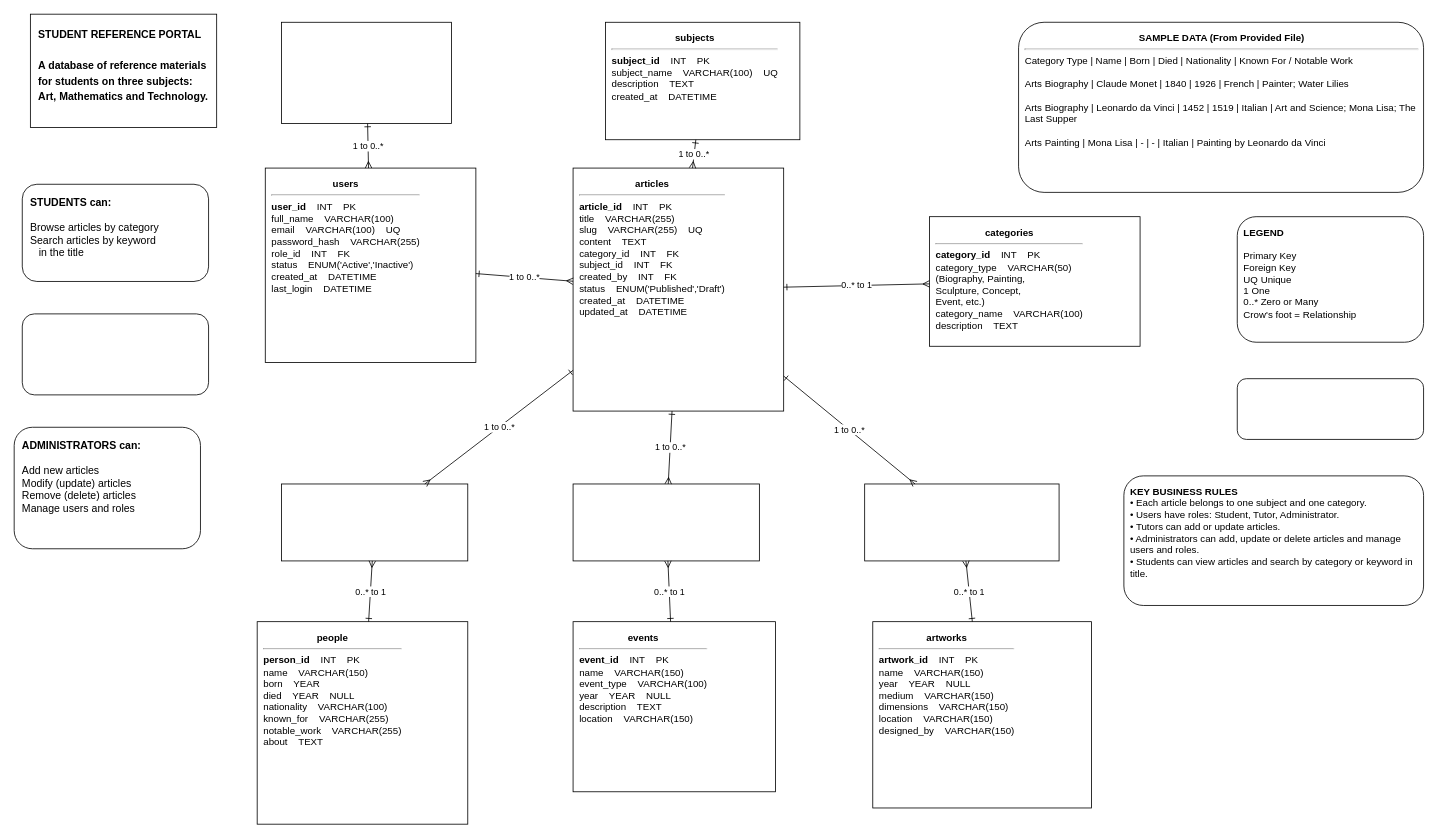
The diagram is 1438 pixels wide and 838 high, and some of its shapes have lost their labels. Here are the shapes that lost their labels. From the top down, the centre of each, then its label:
At (x=366, y=72): "roles role_id INT PK role_name VARCHAR(50) UQ description VARCHAR(255)".
At (x=115, y=354): "TUTORS can: Add new articles Modify (update) articles".
At (x=1330, y=408): "ENUM VALUES • users.status: Active, Inactive • articles.status: Published, Draft".
At (x=374, y=522): "article_people article_id INT FK / PK person_id INT FK / PK".
At (x=665, y=522): "article_events article_id INT FK / PK event_id INT FK / PK".
At (x=961, y=522): "article_artworks article_id INT FK / PK artwork_id INT FK / PK".
